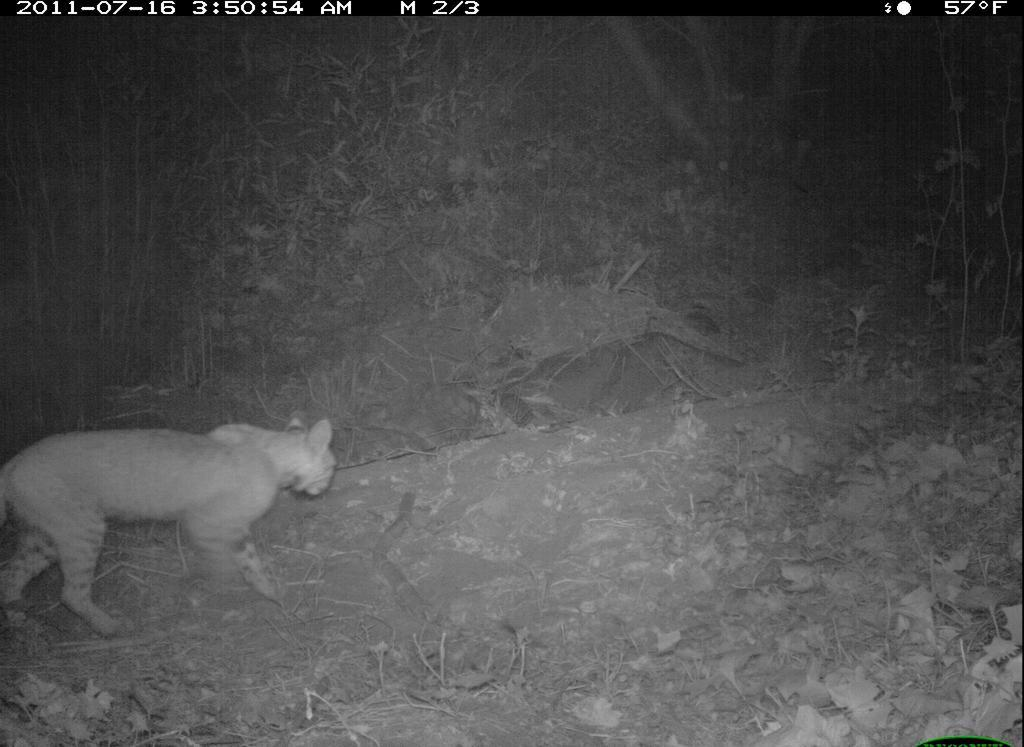bobcat: (3, 408, 350, 646)
